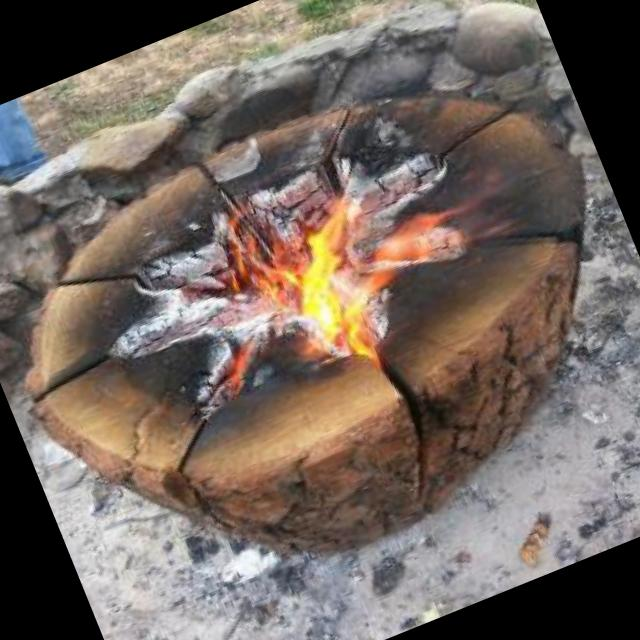fire: (240, 170, 426, 383)
